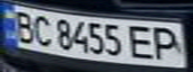4: (69, 18, 87, 54)
5: (103, 21, 127, 57), (87, 20, 106, 56)
8: (51, 16, 72, 52)
B: (6, 8, 39, 44)
C: (27, 12, 54, 47)
E: (124, 22, 160, 61)
P: (148, 25, 190, 61)
